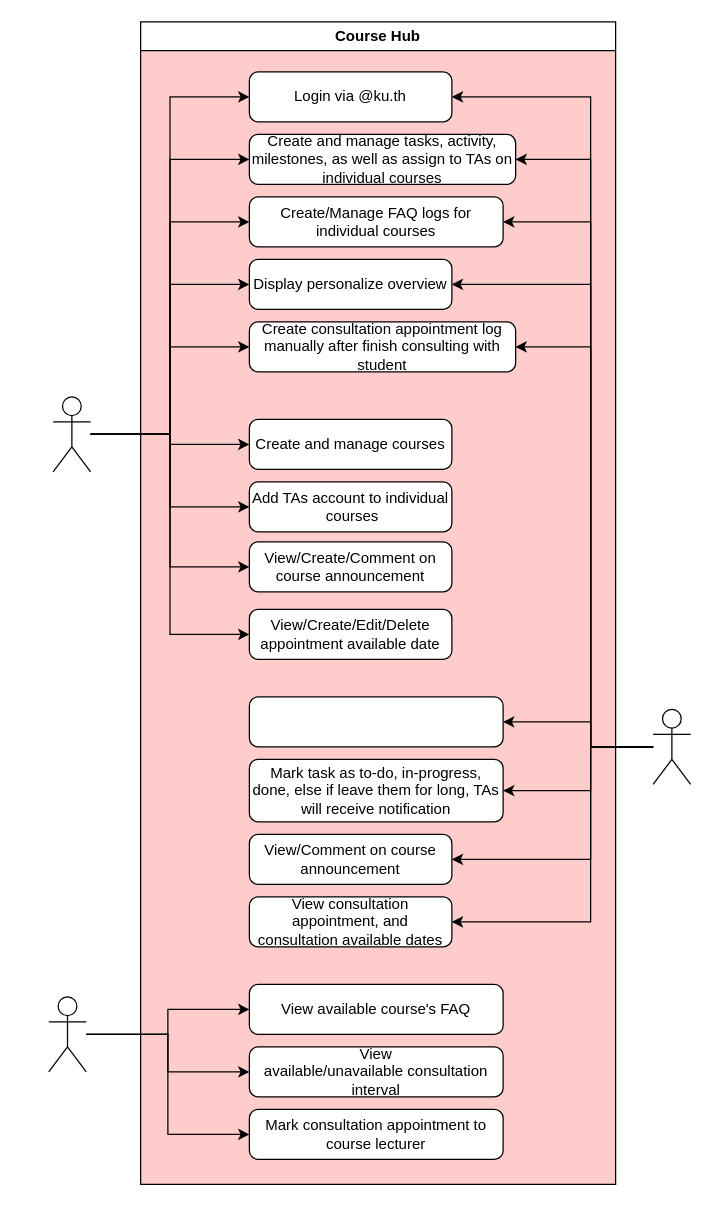
Some shapes in this 713 by 1206 pixel diagram are drawn without their labels. Each missing label, with the centre of its shape:
"Lecturer/Ad min" belongs at (x=71, y=434).
"Students" belongs at (x=67, y=1034).
"TAs" belongs at (x=671, y=746).
"View courses that have been added to be TA by the Lecturer" belongs at (x=375, y=721).
